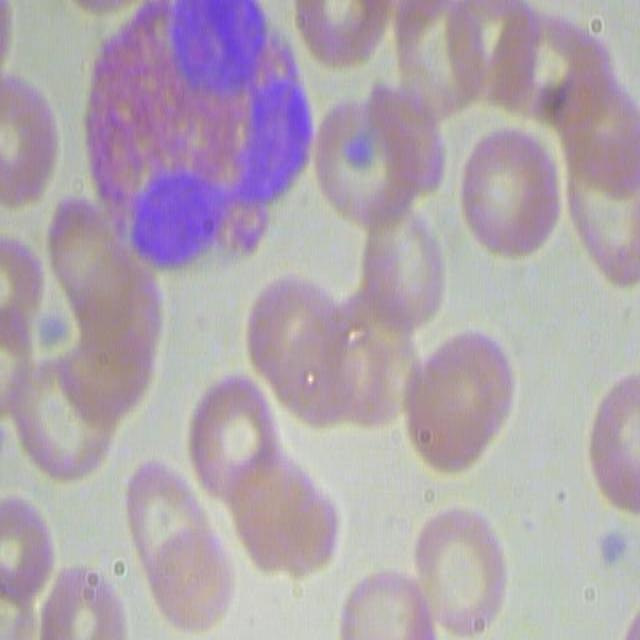RBC: (249, 271, 416, 443), (553, 40, 636, 294), (313, 80, 442, 232), (126, 458, 231, 634), (0, 333, 112, 489), (398, 321, 514, 470), (456, 110, 566, 265), (406, 498, 509, 638), (229, 452, 338, 577), (478, 5, 593, 123), (182, 366, 280, 502), (388, 1, 487, 119), (82, 255, 172, 379), (6, 265, 98, 386), (359, 206, 447, 328), (0, 67, 60, 214), (0, 491, 53, 636), (331, 568, 436, 640), (587, 371, 640, 512), (291, 0, 393, 70), (37, 562, 126, 638)
WBC: (73, 0, 303, 265)
platelets: (596, 520, 638, 577)
